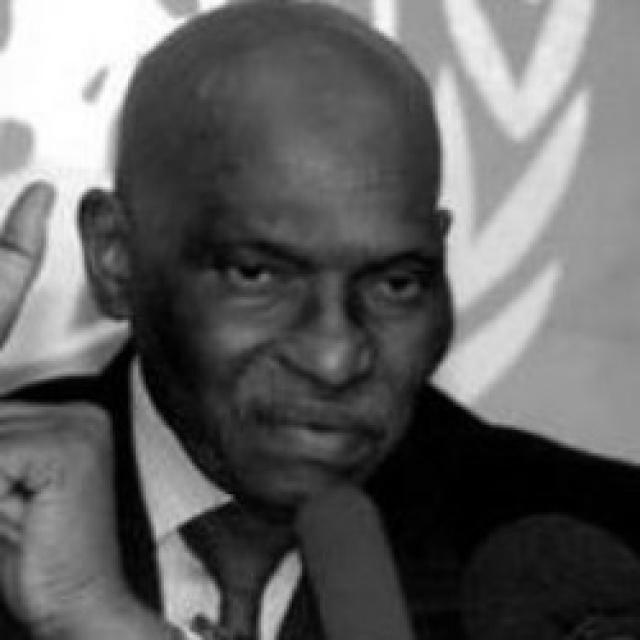real: (140, 60, 456, 510), (205, 241, 429, 328)
